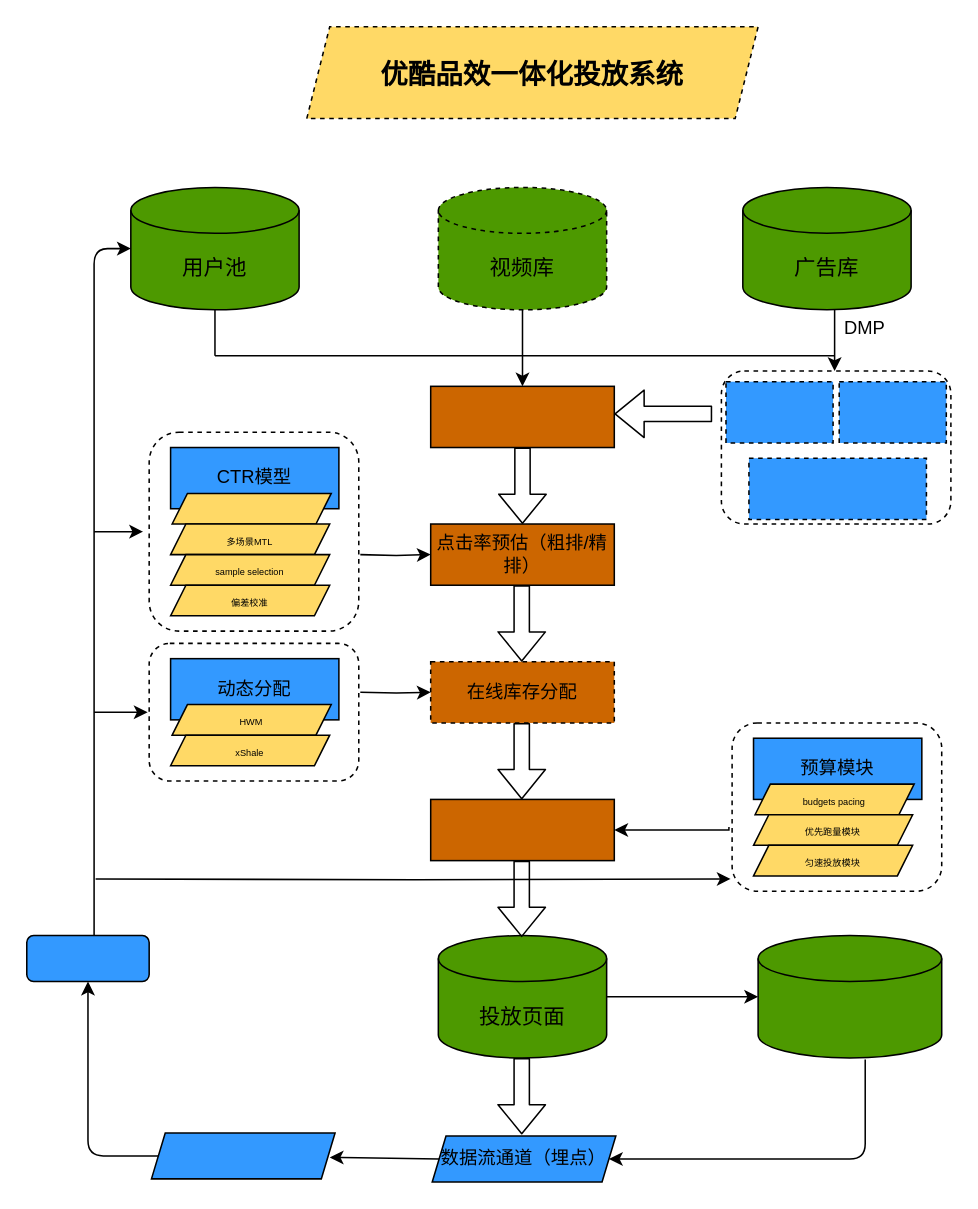
This 978x1209 diagram has some shape labels left out. The shapes that lost their labels are listed below. From the top down, each one's centre as x and y in pixels, then its label:
point 521,416: 广告检索（BE召回）
point 778,411: 种子人群
point 892,411: 人群画像
point 251,508: oCPC-based DIN
point 836,488: Look-Alike人群扩散
point 521,829: 智能出价（预算管理/pacing）
point 87,957: 反作弊模块
point 849,996: 广告主业务数据库
point 242,1155: 实时计算引擎（Blink）
